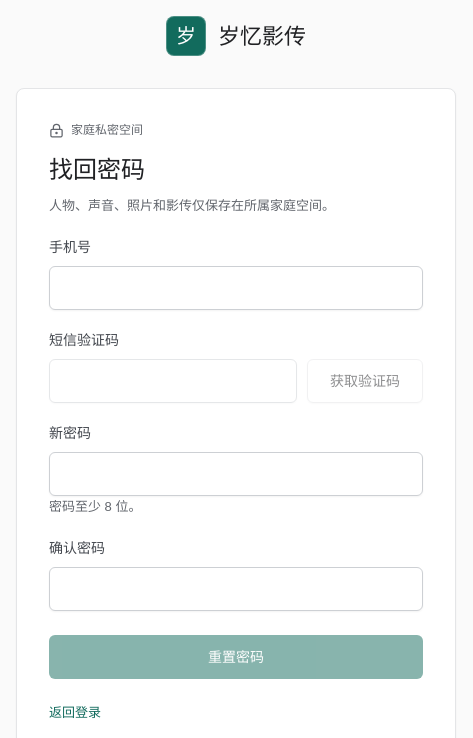
Test case: resets password with a purpose-bound SMS and returns to login
Step 1. Type "13800138001" into the field labelled "手机号" → (236, 288), box [49,266,423,310]
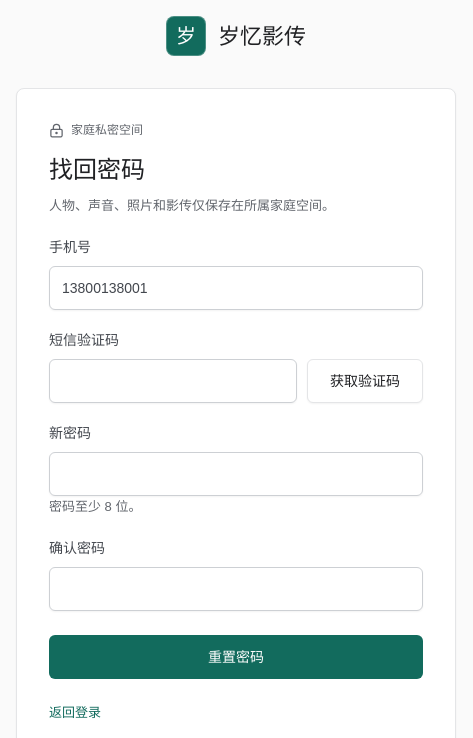
Expected: the button "获取验证码" is enabled
Step 2. Click the button "获取验证码" → (365, 381), box [307,359,423,403]
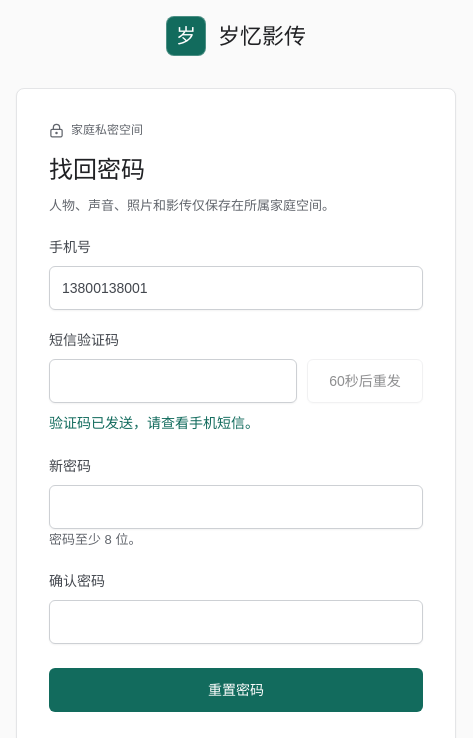
Expected: the text "验证码已发送，请查看手机短信。" is shown, [49,415,259,431]
Step 3. Type "123456" into the field labelled "短信验证码" → (173, 381), box [49,359,297,403]
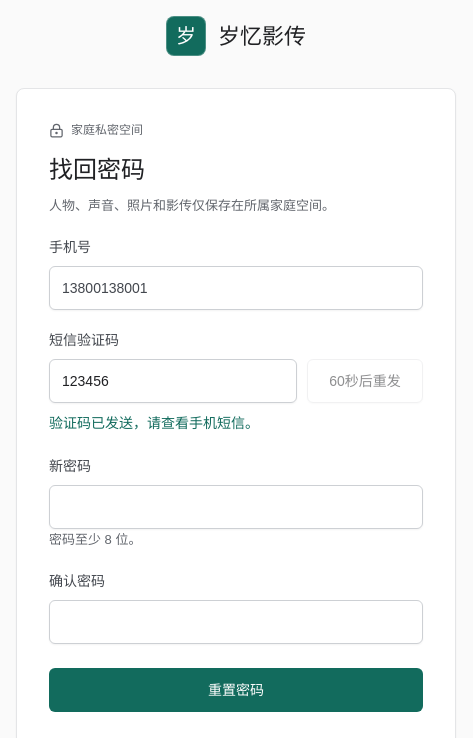
Step 4. Type "Password123!" into the password field labelled "新密码" → (236, 507), box [49,485,423,529]
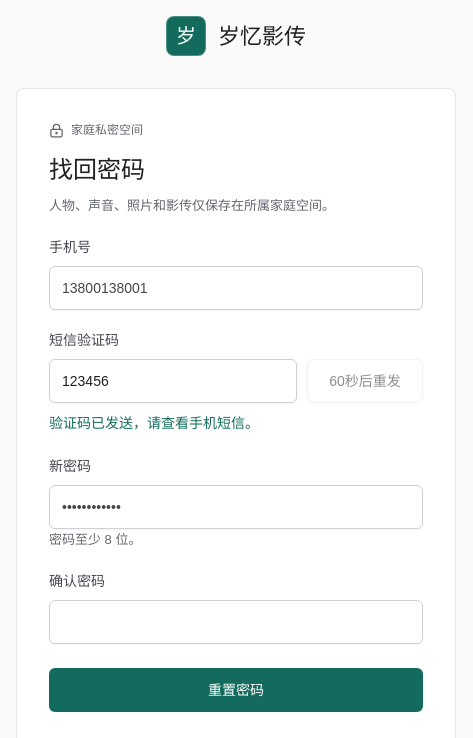
Step 5. Type "Password123!" into the password field labelled "确认密码" → (236, 622), box [49,600,423,644]
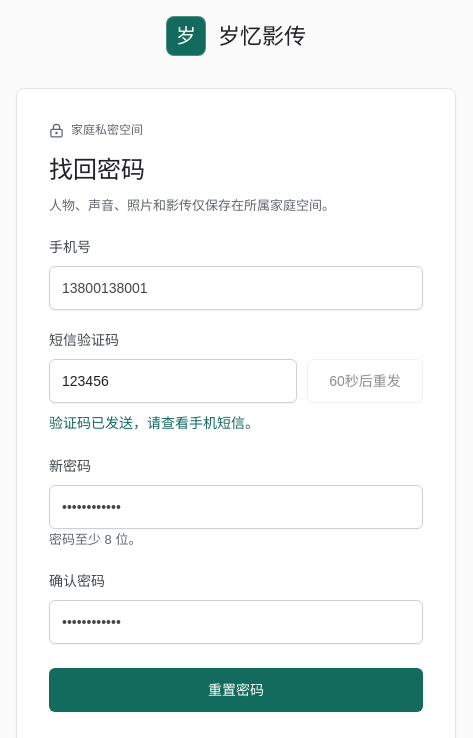
Step 6. Click the button "重置密码" → (236, 690), box [49,668,423,712]
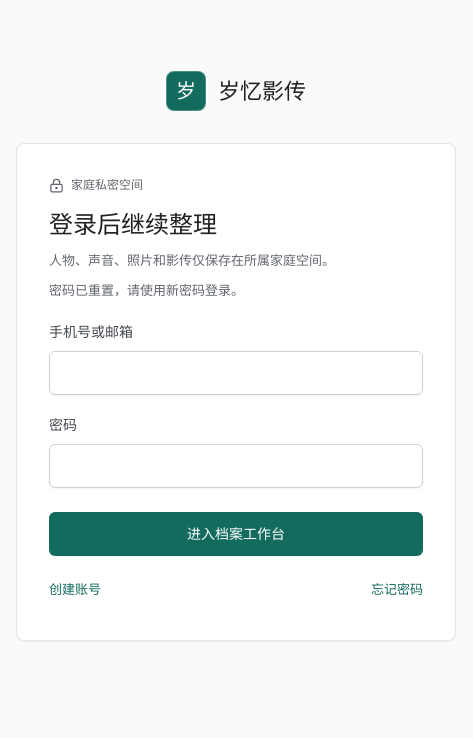
Expected: the heading "登录后继续整理" is shown, [49,211,217,238]
Expected: the message shows "密码已重置", [49,283,244,298]
